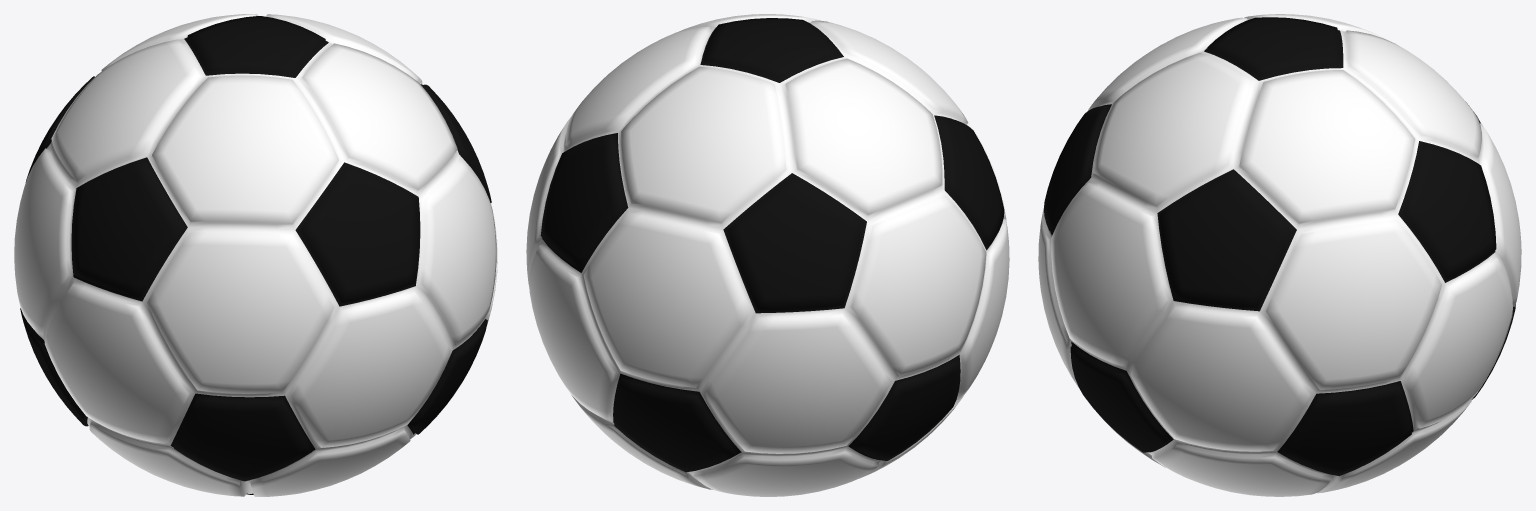
File: balonjapon.glb
The picture shows the model from 3 angles, left to right: view 1: azimuth 30°, elevation 25°; view 2: azimuth 150°, elevation 25°; view 3: azimuth 270°, elevation 25°; orthographic projection.
Parts seen in each view (by area): view 1: Object_2; view 2: Object_2; view 3: Object_2.
Part boxes in pixels (x1,y1,x2,y2): Object_2: (14,14,497,496); Object_2: (526,14,1009,496); Object_2: (1038,14,1521,496).
Size of the model in its own units: 0.5087 by 0.5103 by 0.5094.
1 material, 1 textured.
